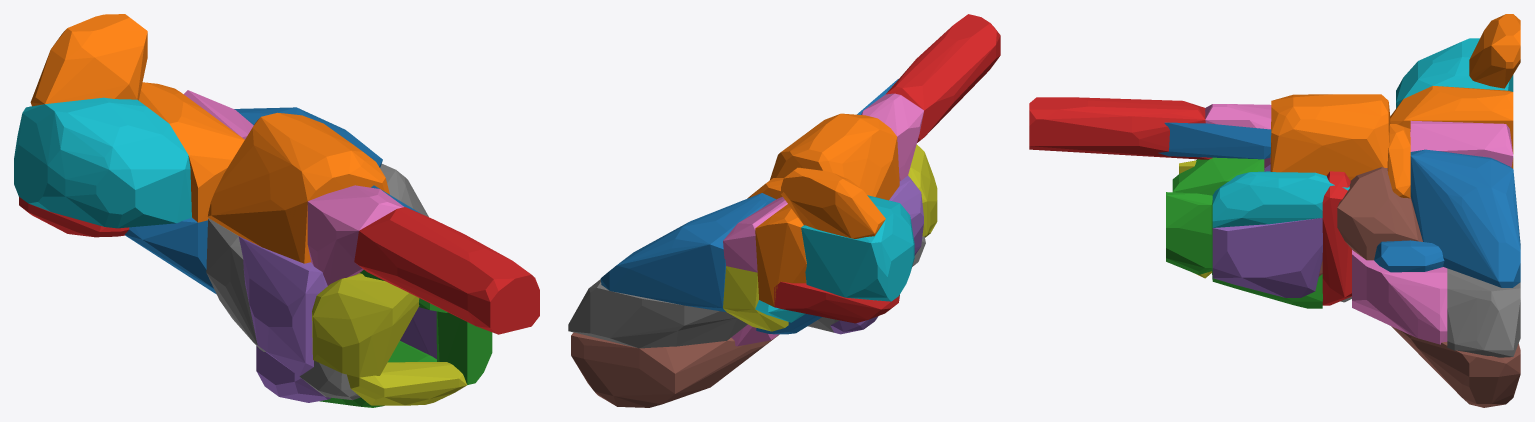
File: dist_decomp.obj
3 renders of one model, left to right at view 1: azimuth 30°, elevation 25°; view 2: azimuth 150°, elevation 25°; view 3: azimuth 270°, elevation 25°, orthographic. The views are drawn at different scales.
Visible parts, largest first — view 1: distal009, distal012, distal001, distal013, distal021, distal004, distal011, distal006, distal017, distal010, distal024, distal003 (+6 smaller); view 2: distal005, distal000, distal009, distal007, distal001, distal013, distal021, distal011, distal003, distal006, distal028, distal026 (+7 smaller); view 3: distal000, distal001, distal013, distal014, distal016, distal012, distal019, distal007, distal015, distal005, distal011, distal020 (+8 smaller).
Boxes of the visible parts, left/top/right/bottom form: distal009: left=14, top=97, right=191, bottom=228; distal012: left=312, top=270, right=492, bottom=405; distal001: left=207, top=112, right=389, bottom=263; distal013: left=354, top=207, right=539, bottom=334; distal021: left=30, top=14, right=147, bottom=106; distal004: left=238, top=236, right=327, bottom=376; distal011: left=139, top=82, right=244, bottom=222; distal006: left=307, top=185, right=403, bottom=285; distal017: left=206, top=218, right=265, bottom=351; distal010: left=124, top=217, right=216, bottom=294; distal024: left=256, top=346, right=330, bottom=402; distal003: left=19, top=197, right=129, bottom=237; distal005: left=571, top=332, right=779, bottom=407; distal000: left=600, top=193, right=775, bottom=312; distal009: left=801, top=195, right=914, bottom=301; distal007: left=568, top=279, right=747, bottom=348; distal001: left=770, top=113, right=899, bottom=200; distal013: left=886, top=14, right=1000, bottom=142; distal021: left=781, top=167, right=885, bottom=238; distal011: left=755, top=204, right=806, bottom=306; distal003: left=774, top=281, right=899, bottom=323; distal006: left=861, top=93, right=923, bottom=180; distal028: left=723, top=266, right=788, bottom=331; distal026: left=723, top=197, right=787, bottom=272; distal000: left=1410, top=149, right=1520, bottom=287; distal001: left=1270, top=94, right=1390, bottom=180; distal013: left=1029, top=97, right=1212, bottom=159; distal014: left=1212, top=218, right=1322, bottom=297; distal016: left=1352, top=250, right=1447, bottom=344; distal012: left=1166, top=157, right=1264, bottom=278; distal019: left=1212, top=171, right=1349, bottom=227; distal007: left=1447, top=268, right=1520, bottom=357; distal015: left=1337, top=167, right=1422, bottom=260; distal005: left=1391, top=326, right=1520, bottom=407; distal011: left=1390, top=86, right=1513, bottom=168; distal020: left=1158, top=122, right=1271, bottom=159.
Size of the model in its own units: 0.1082 by 0.0927 by 0.1479.
